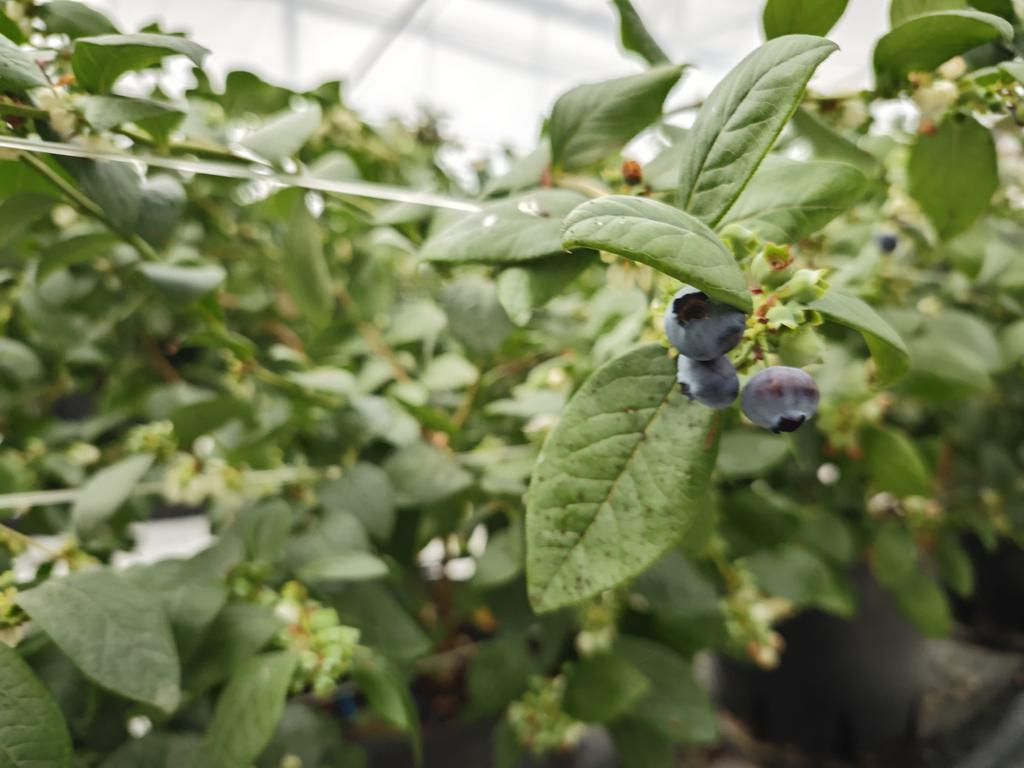RipeBlueBerry: (665, 284, 750, 363), (740, 364, 823, 436), (673, 353, 740, 411)
